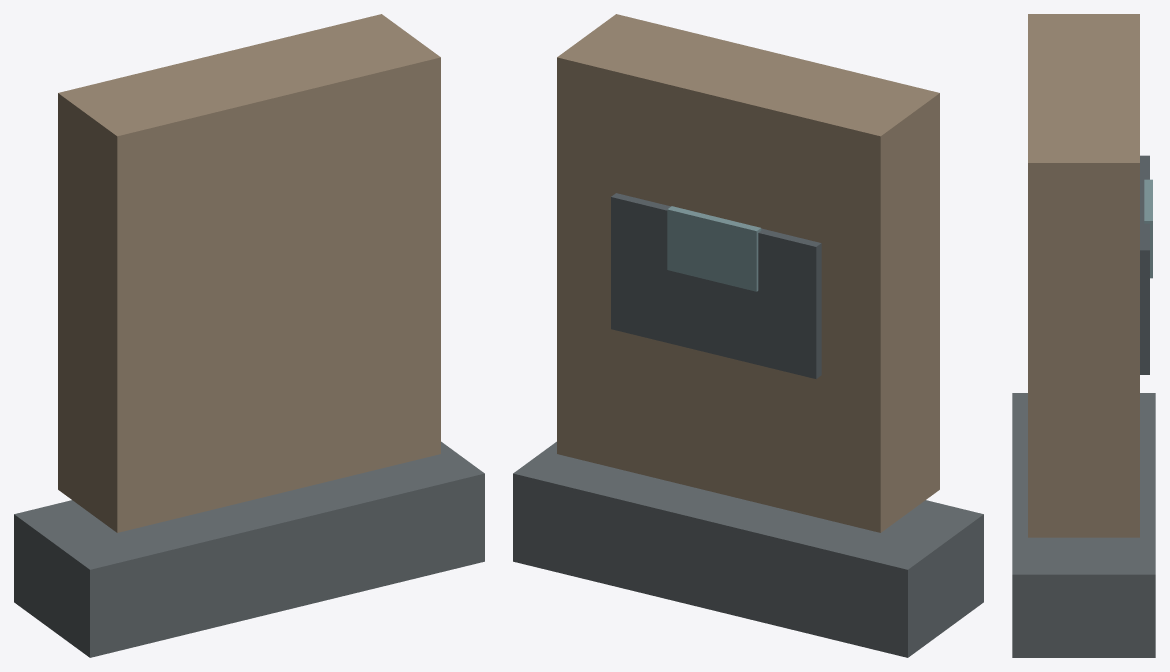
File: iz3_health_shelf_02.glb
3 renders of one model, left to right at view 1: azimuth 30°, elevation 25°; view 2: azimuth 150°, elevation 25°; view 3: azimuth 270°, elevation 25°, orthographic. The views are drawn at different scales.
Visible parts, largest first — view 1: cabinet, base; view 2: cabinet, base, panel, display; view 3: cabinet, base, panel, display.
Boxes of the visible parts, x1,y1,x2,y2 form: cabinet: [58, 14, 440, 532]; base: [14, 441, 484, 657]; cabinet: [557, 14, 939, 532]; base: [513, 441, 983, 657]; panel: [611, 193, 821, 378]; display: [667, 206, 761, 291]; cabinet: [1028, 14, 1139, 537]; base: [1012, 393, 1155, 657]; panel: [1140, 155, 1149, 374]; display: [1144, 179, 1152, 278].
Size of the model in its own units: 1.5 by 1.84 by 0.5.
